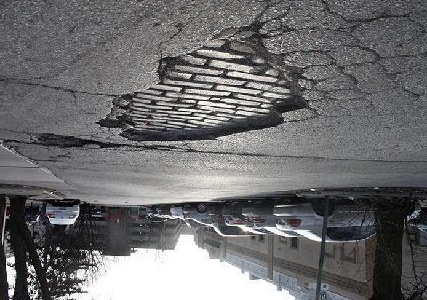pothole: (99, 21, 317, 144), (29, 130, 95, 149)
